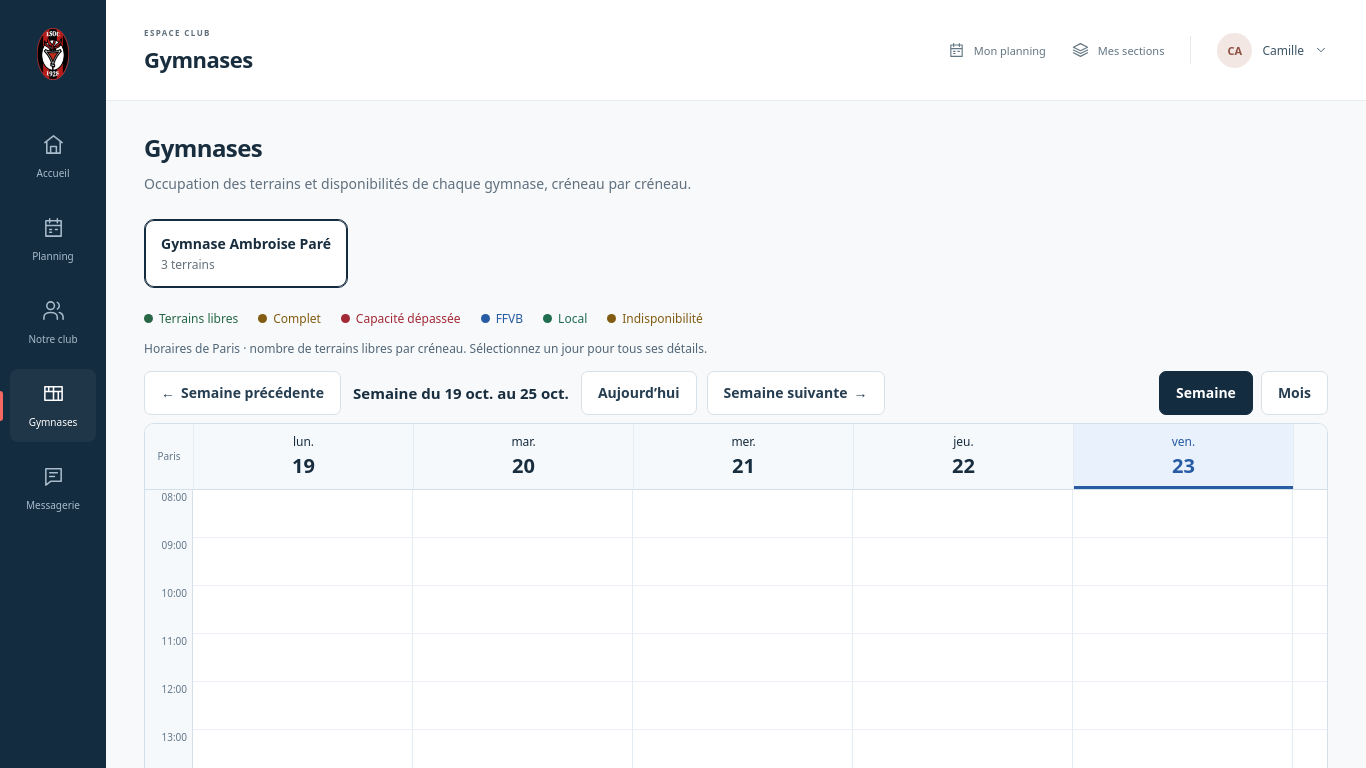
Test: les gymnases signalent un dépassement et mes sections présentent mon rôle
(page scrolled)
Click the link "Mes sections" at (1118,50), box [1072, 40, 1164, 60]
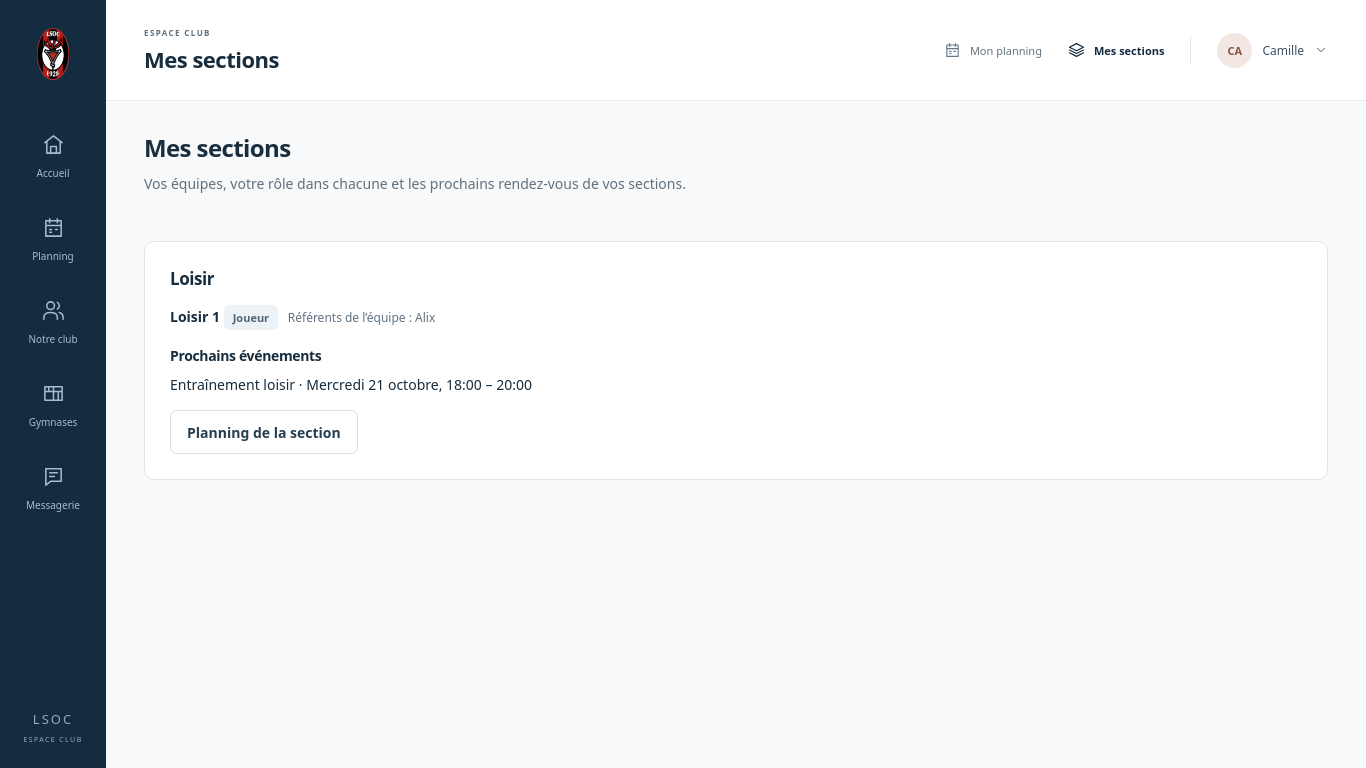
Expected: the link "Entraînement loisir" is shown, [170, 375, 295, 394]
Result: the text "Joueur" is shown at [224, 305, 278, 330]
Result: the element "Loisir" shows "Référents de l’équipe : Alix" at [144, 241, 1328, 480]
